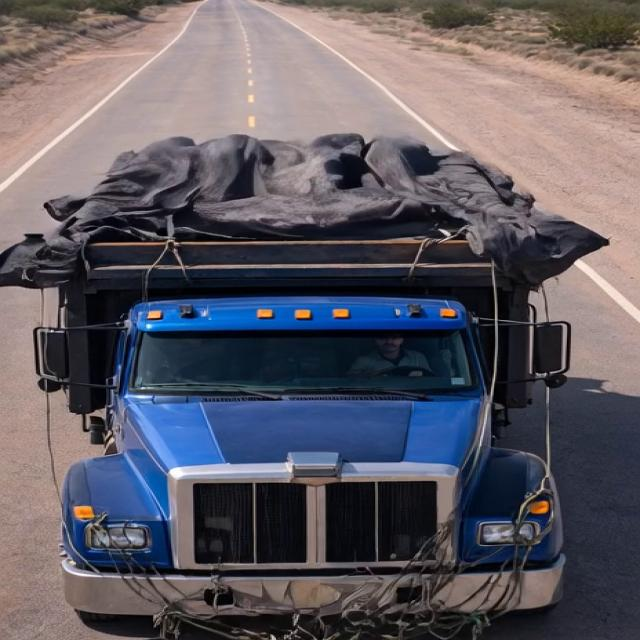Box: (49, 130, 593, 266)
Truck: (18, 104, 601, 624)
